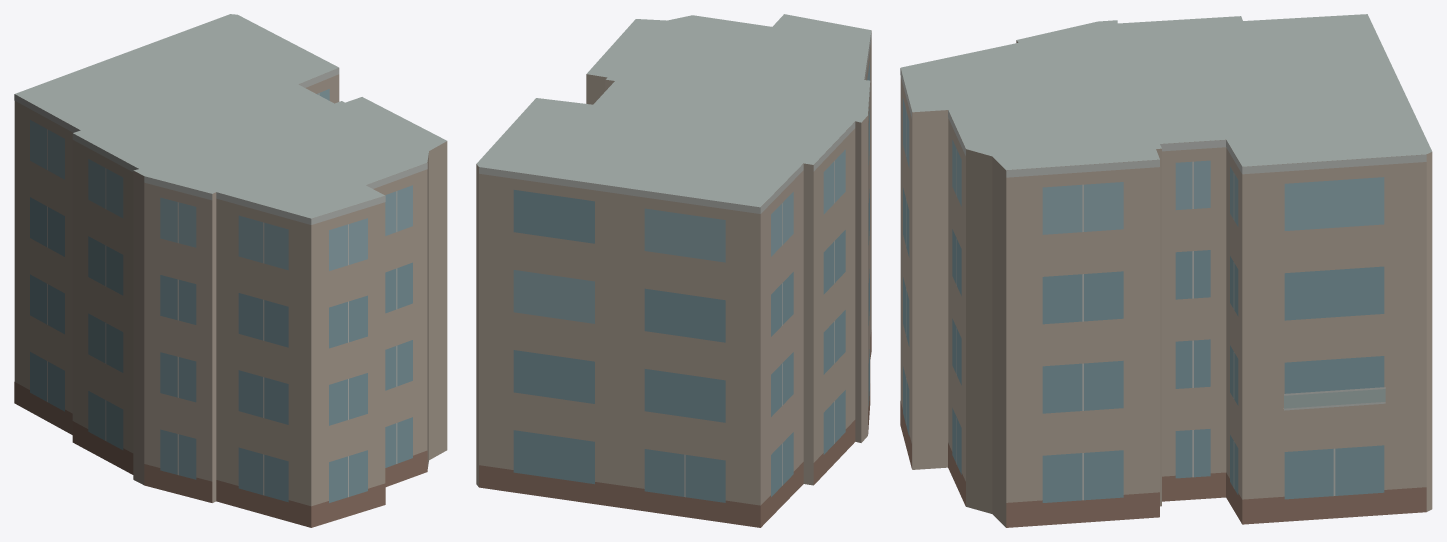
Rendered from survey-upis-32690572.glb.
3 views of the same model, side by side, from view 1: azimuth 30°, elevation 25°; view 2: azimuth 150°, elevation 25°; view 3: azimuth 270°, elevation 25° (orthographic). The views are drawn at different scales.
Visible parts, largest first — view 1: survey-upis-32690572.tmp; view 2: survey-upis-32690572.tmp; view 3: survey-upis-32690572.tmp.
Boxes of the visible parts, x1,y1,x2,y2 form: survey-upis-32690572.tmp: [14, 14, 447, 527]; survey-upis-32690572.tmp: [476, 14, 871, 527]; survey-upis-32690572.tmp: [900, 14, 1432, 527].
Bounding box in the file's own units: 10.87 × 11.6 × 15.64.
